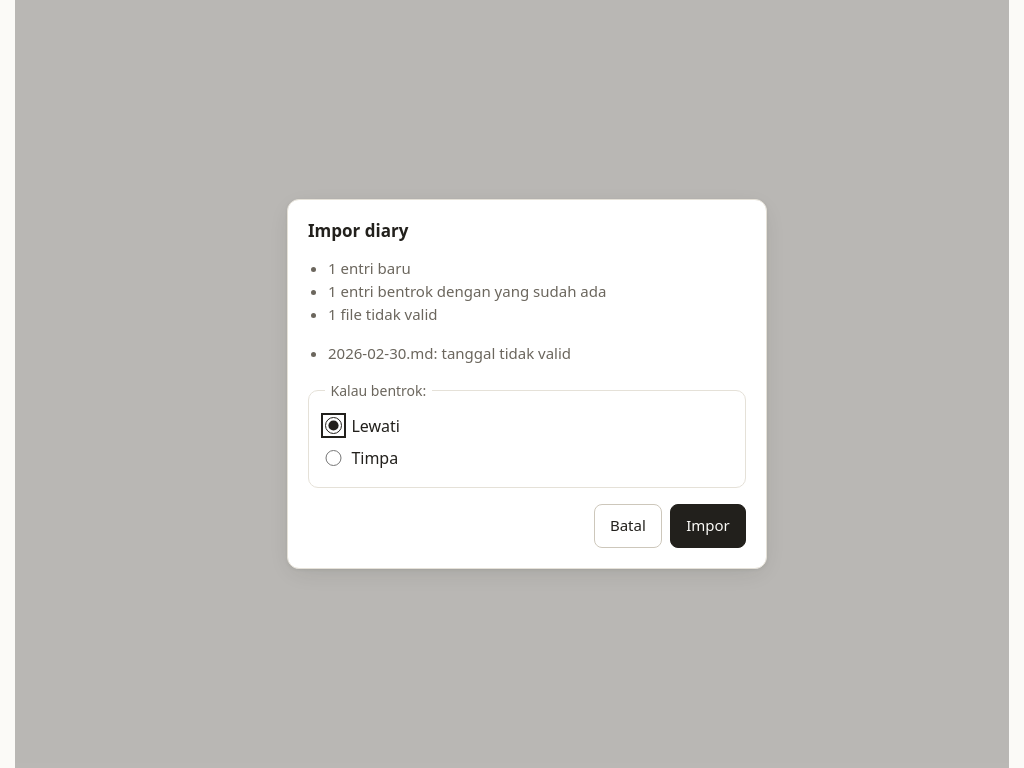
skip by default keeps existing, reports result
The image size is (1024, 768).
Click the button "Impor" at (708, 526), box [670,504,746,548]
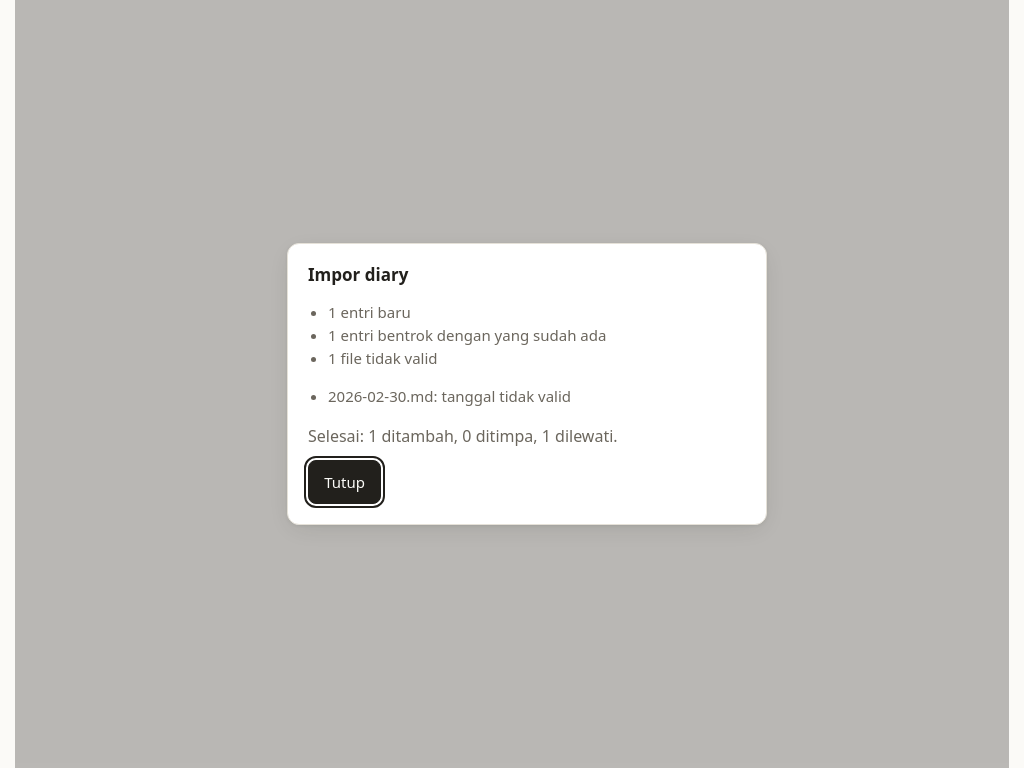
Expected: the text "Selesai: 1 ditambah, 0 ditimpa, 1 dilewati." is shown, [308,425,618,447]
